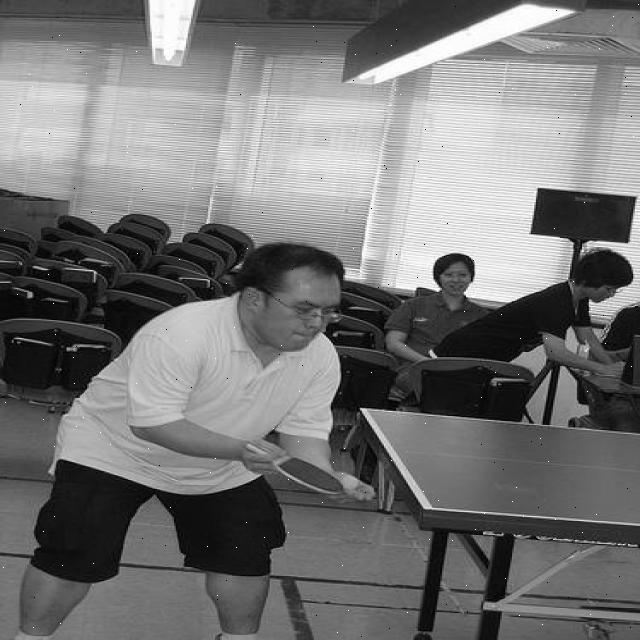ping-pong-ball: (339, 474, 359, 491)
